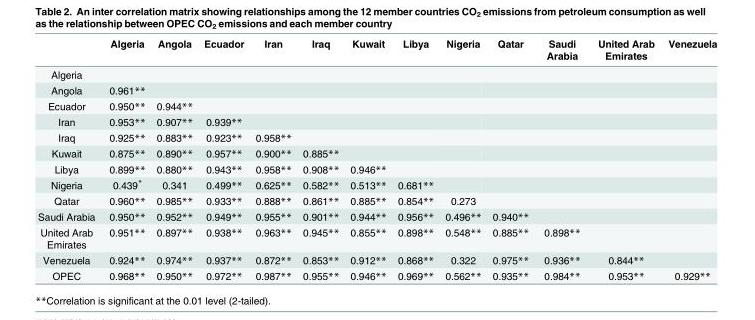table: (37, 37, 716, 281)
table column: (588, 37, 660, 281), (37, 37, 101, 281), (660, 37, 716, 281), (535, 37, 588, 281), (197, 37, 249, 281), (101, 37, 150, 281), (486, 37, 535, 281), (343, 37, 391, 281), (438, 37, 486, 281), (150, 37, 197, 281), (249, 37, 296, 281), (296, 37, 343, 281), (391, 37, 438, 281)
table column header: (37, 37, 716, 64)
table projected row header: (37, 64, 716, 81)
table row: (37, 37, 716, 64), (37, 224, 716, 251), (37, 64, 716, 81), (37, 81, 716, 97), (37, 97, 716, 113), (37, 113, 716, 129), (37, 129, 716, 145), (37, 145, 716, 161), (37, 176, 716, 192), (37, 192, 716, 208), (37, 208, 716, 224), (37, 251, 716, 267), (37, 161, 716, 176), (37, 267, 716, 281)
